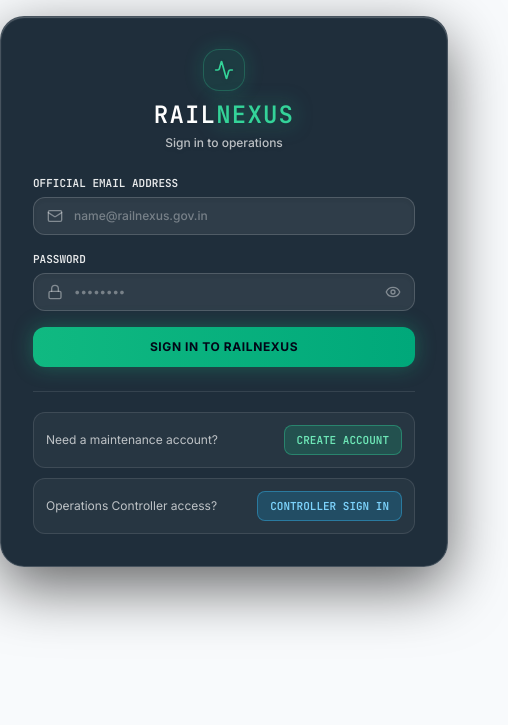
Test case: RailNexus Auth Flow & Role Architecture - Final Acceptance Verification › Login Screen Constraints › translates raw 500 error into a user-friendly message and does not display raw Axios error text
The image size is (508, 725).
Type "officer@railnexus.gov.in" into the field labelled "Official Email Address". click: [224, 216]
box: left=33, top=197, right=415, bottom=235
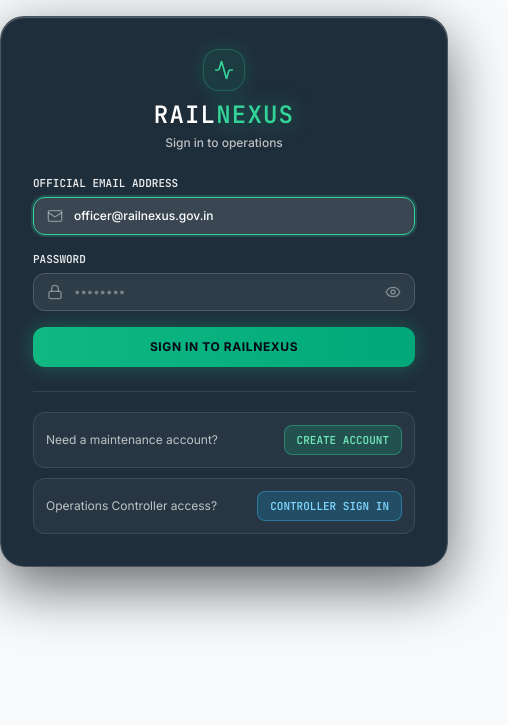
Type "SecretPass123!" into the password field labelled "Password". click: [224, 292]
box: left=33, top=273, right=415, bottom=311
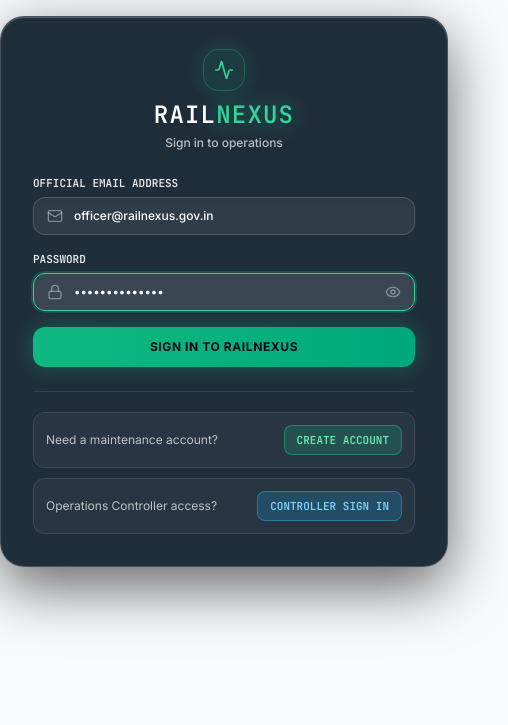
Click the button "Sign in to RailNexus". click: [224, 347]
box: left=33, top=327, right=415, bottom=367
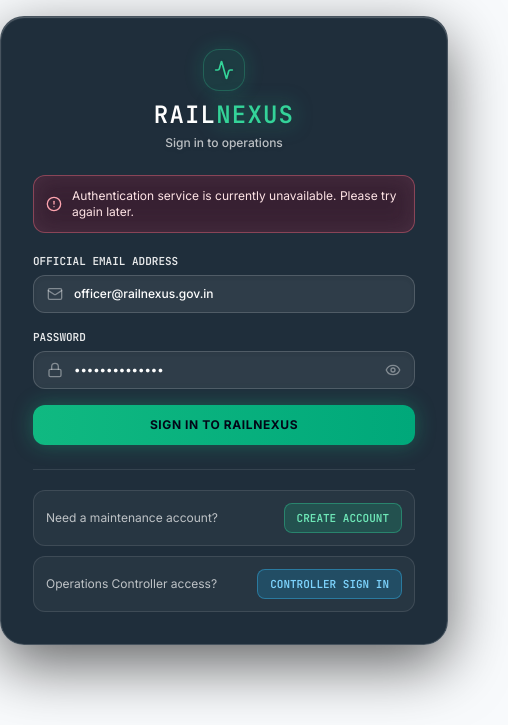
Result: the text "Authentication service is currently unavailable" is shown at left=72, top=188, right=396, bottom=219
